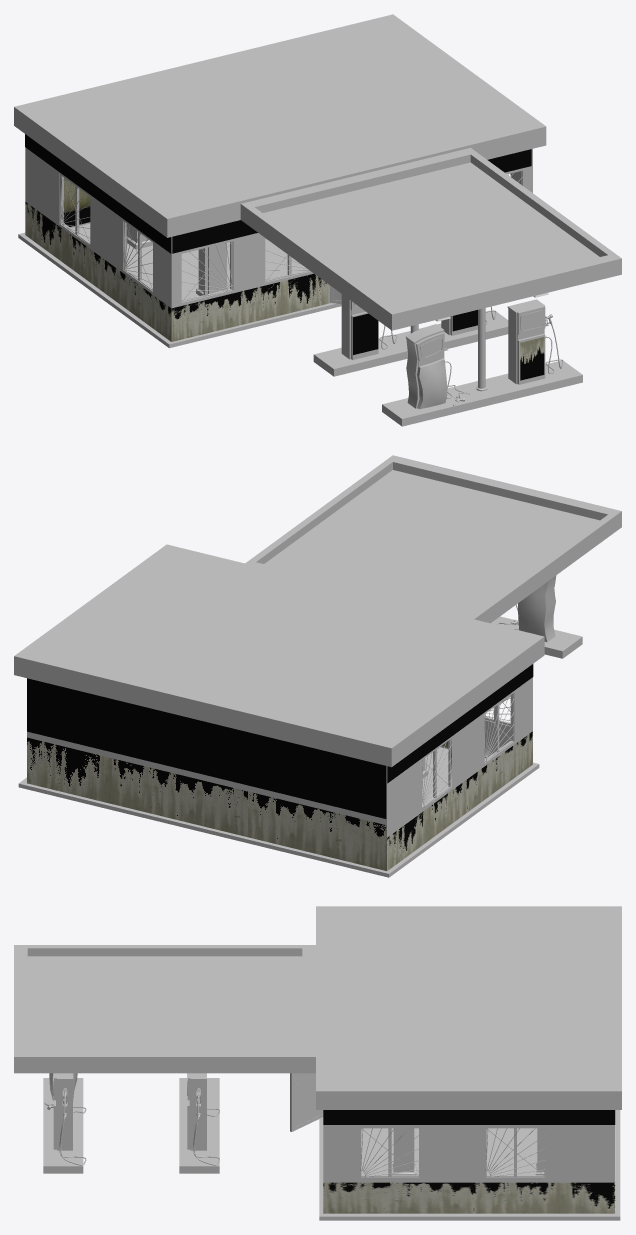
The picture shows the model from 3 angles, top to bottom: view 1: azimuth 30°, elevation 25°; view 2: azimuth 150°, elevation 25°; view 3: azimuth 270°, elevation 25°; orthographic projection.
Parts seen in each view (by area): view 1: shop; view 2: shop; view 3: shop, door.
Boxes of the visible parts, x1,y1,x2,y2 form: shop: [14, 14, 621, 426]; shop: [14, 455, 621, 877]; shop: [14, 906, 621, 1220]; door: [290, 1073, 323, 1131].
Size of the model in its own units: 1048 by 349 by 1458.
